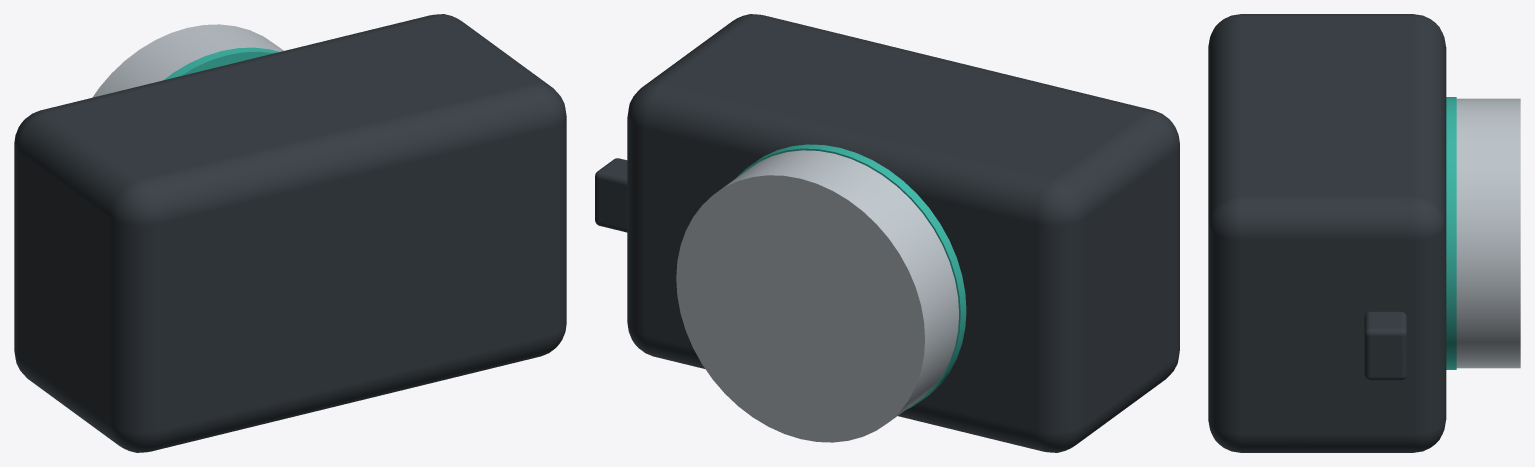
File: mount.obj
The picture shows the model from 3 angles, left to right: view 1: azimuth 30°, elevation 25°; view 2: azimuth 150°, elevation 25°; view 3: azimuth 270°, elevation 25°; orthographic projection. The views are drawn at different scales.
Parts seen in each view (by area): view 1: housing, robot_flange_clamp_ring, indicator_ring; view 2: housing, robot_flange_clamp_ring, indicator_ring, connector; view 3: housing, robot_flange_clamp_ring, indicator_ring, connector.
Boxes of the visible parts, <box> form: housing: <box>14,14,566,452</box>; robot_flange_clamp_ring: <box>92,24,283,97</box>; indicator_ring: <box>164,47,278,79</box>; housing: <box>627,14,1179,452</box>; robot_flange_clamp_ring: <box>676,150,958,442</box>; indicator_ring: <box>736,144,966,409</box>; connector: <box>595,158,627,232</box>; housing: <box>1208,14,1446,452</box>; robot_flange_clamp_ring: <box>1456,98,1520,368</box>; indicator_ring: <box>1446,97,1456,369</box>; connector: <box>1364,311,1406,380</box>.
Size of the model in its own units: 0.151 by 0.079 by 0.088.
